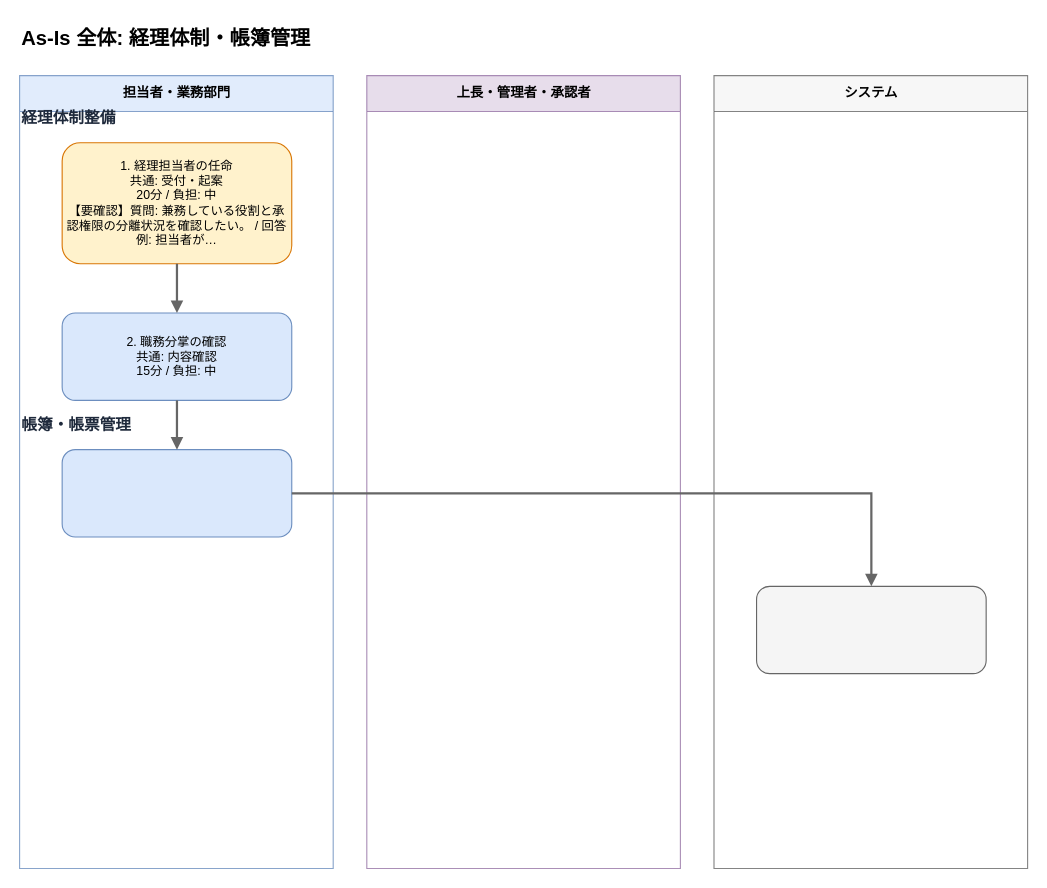
The diagram is 1047 pixels wide and 888 high, and some of its shapes have lost their labels. Each missing label, with the centre of its shape:
1. 帳簿一覧の整備 共通: 記録・保管 20分 / 負担: 中: [176,493]
2. 会計システム設定確認 共通: システム入力 30分 / 負担: 中: [870,629]
